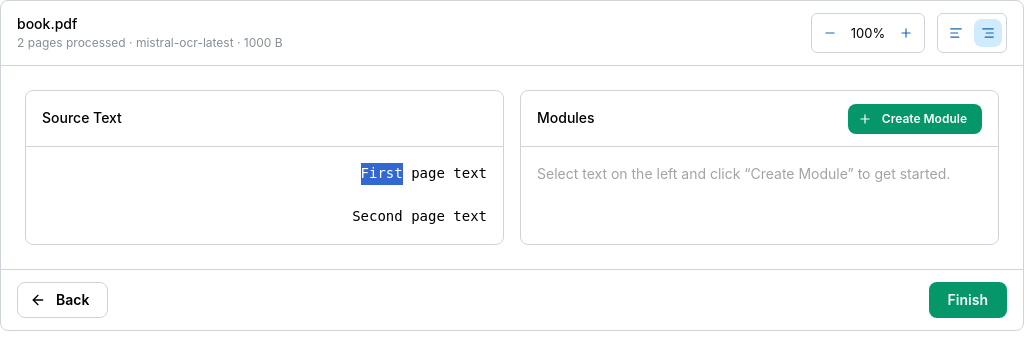
Test: ModuleBuilderView › clears the selection state after creating a Module
The width and height of the screenshot is (1024, 348).
Click the button "Create Module" at (915, 118), box x1=848 y1=104 x2=982 y2=134
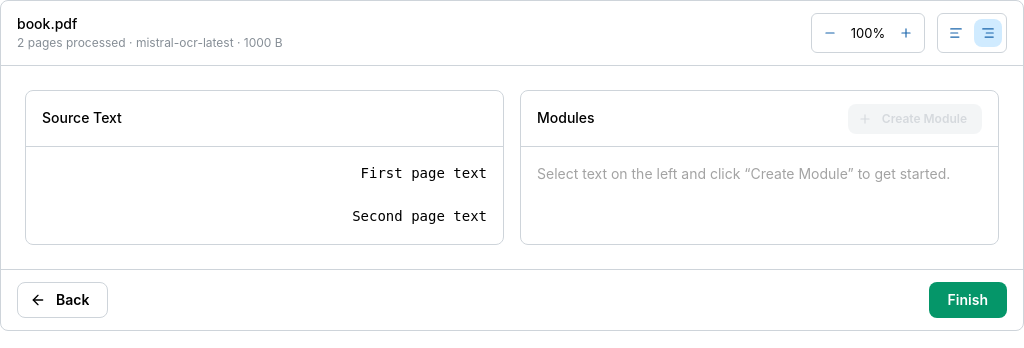
Now the button "Create Module" is disabled, box x1=848 y1=104 x2=982 y2=134
